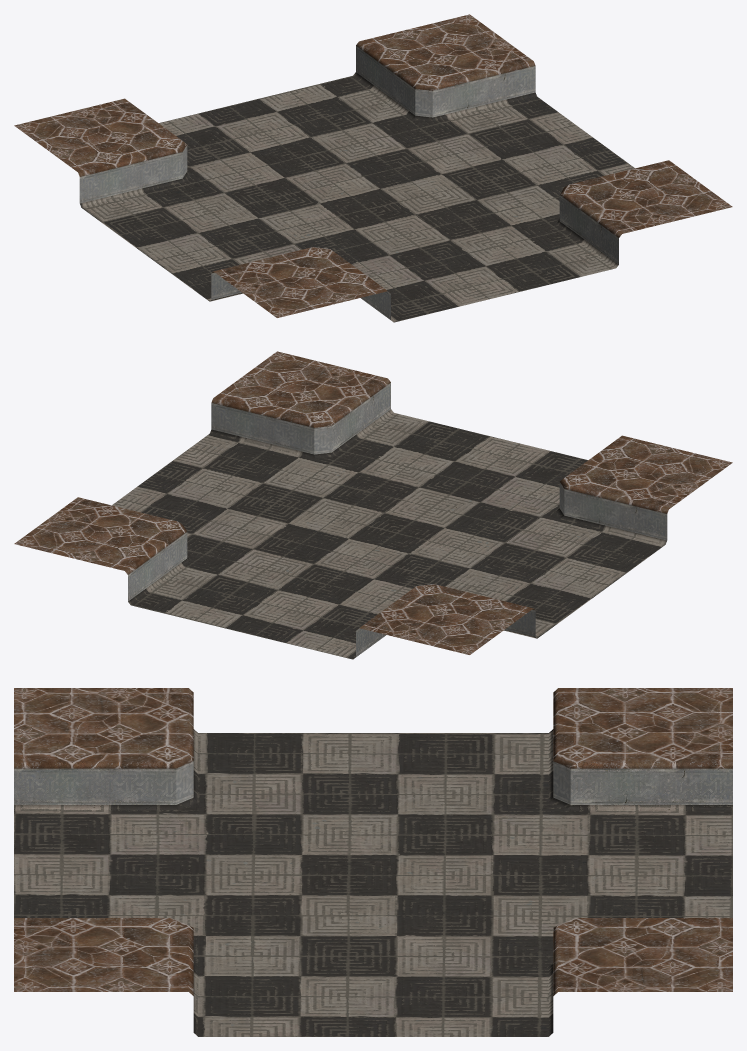
File: FBX_Floor_Sunk_Cross.fbx
The picture shows the model from 3 angles, top to bottom: view 1: azimuth 30°, elevation 25°; view 2: azimuth 150°, elevation 25°; view 3: azimuth 270°, elevation 25°; orthographic projection. The views are drawn at different scales.
Visible parts, largest first — view 1: Floor_Sunk_Cross; view 2: Floor_Sunk_Cross; view 3: Floor_Sunk_Cross.
Boxes of the visible parts, left/top/right/bottom form: Floor_Sunk_Cross: left=14, top=14, right=732, bottom=322; Floor_Sunk_Cross: left=14, top=351, right=732, bottom=659; Floor_Sunk_Cross: left=14, top=688, right=732, bottom=1036.
Bounding box in the file's own units: 1000 × 68.92 × 1000.
Materials: 3 (3 with a texture image).
